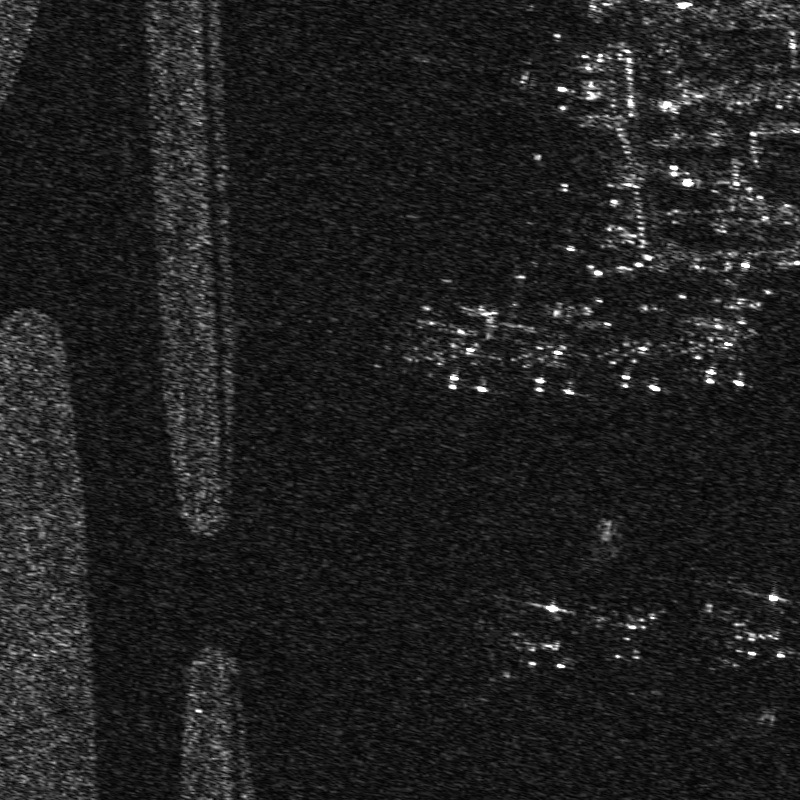A320/321: (432, 302, 504, 394)
Boeing737: (507, 306, 591, 396), (597, 302, 676, 393)
other: (705, 579, 799, 664), (679, 296, 762, 391), (496, 592, 576, 675), (593, 595, 679, 668)
